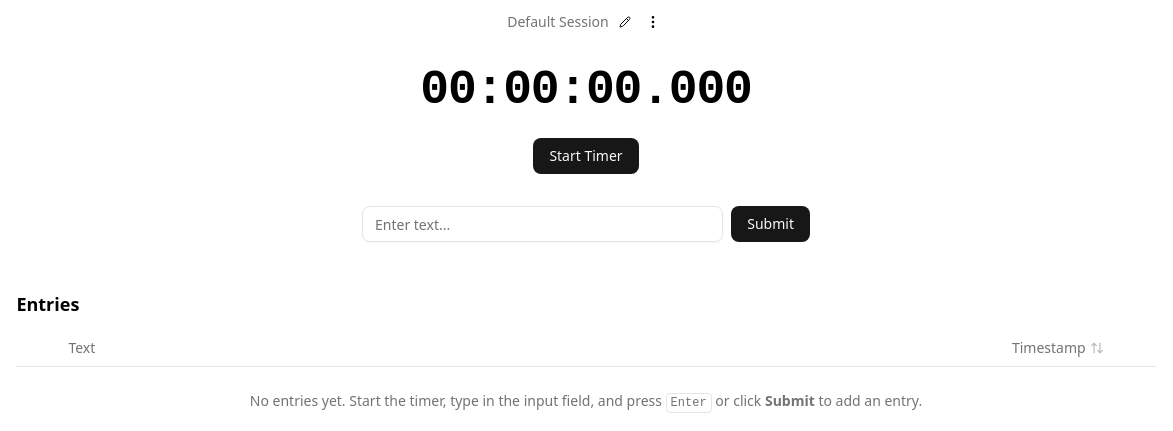
Test: Index › captures timestamp at 00:00:00.000 when timer has not started
Step 1. Type "before start" into the field with test id "timer-input" → (543, 224), box left=362, top=206, right=723, bottom=242
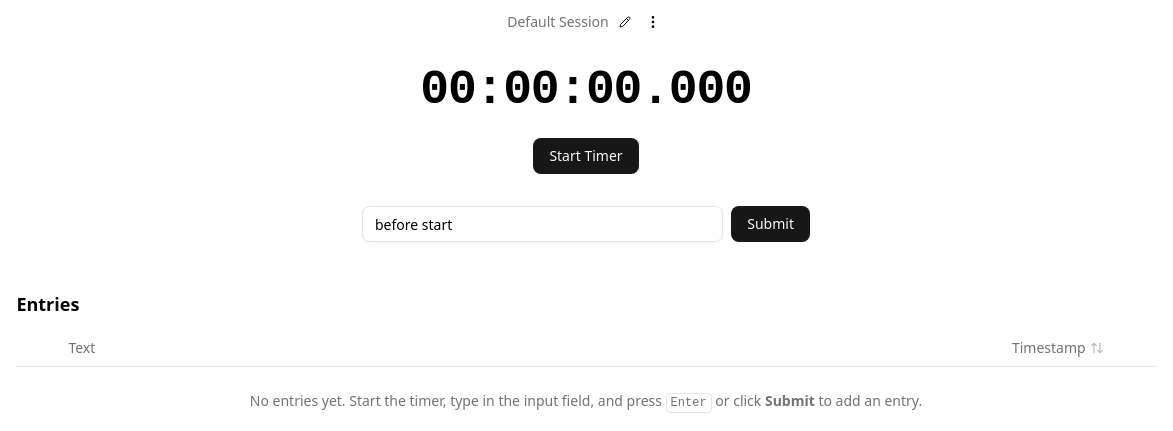
Step 2. Click the button with test id "timer-submit-button" → (771, 224), box left=731, top=206, right=810, bottom=242
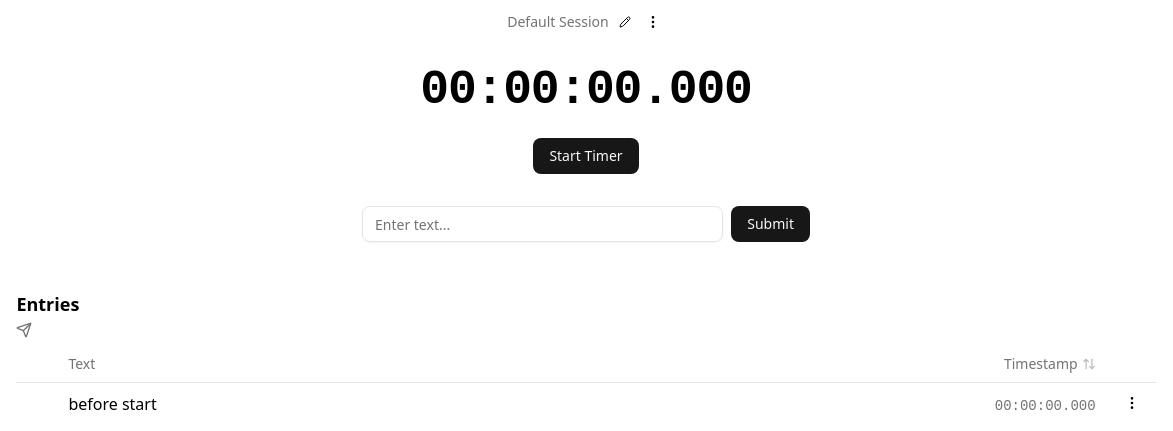
Expected: the row with test id "timer-entry" shows "00:00:00.000", left=995, top=398, right=1096, bottom=414
